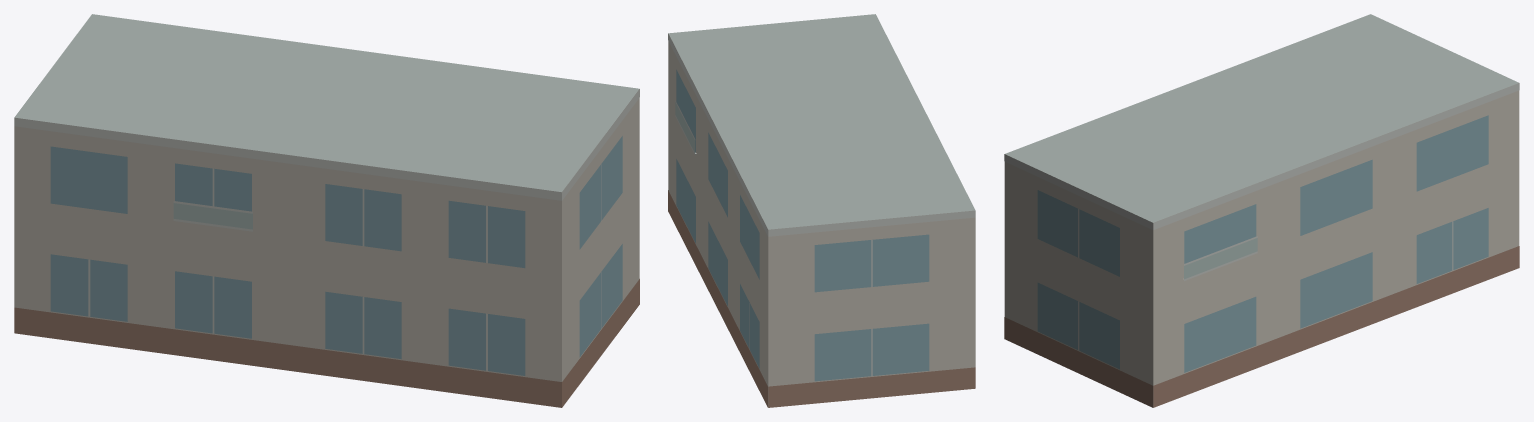
The model's file is survey-upis-32820623.glb.
The picture shows the model from 3 angles, left to right: view 1: azimuth 30°, elevation 25°; view 2: azimuth 150°, elevation 25°; view 3: azimuth 270°, elevation 25°; orthographic projection. The views are drawn at different scales.
Parts seen in each view (by area): view 1: survey-upis-32820623.tmp; view 2: survey-upis-32820623.tmp; view 3: survey-upis-32820623.tmp.
Boxes of the visible parts, x1,y1,x2,y2 form: survey-upis-32820623.tmp: [14, 14, 639, 407]; survey-upis-32820623.tmp: [668, 14, 975, 407]; survey-upis-32820623.tmp: [1004, 14, 1519, 407].
Size of the model in its own units: 14.77 by 6.1 by 15.39.
